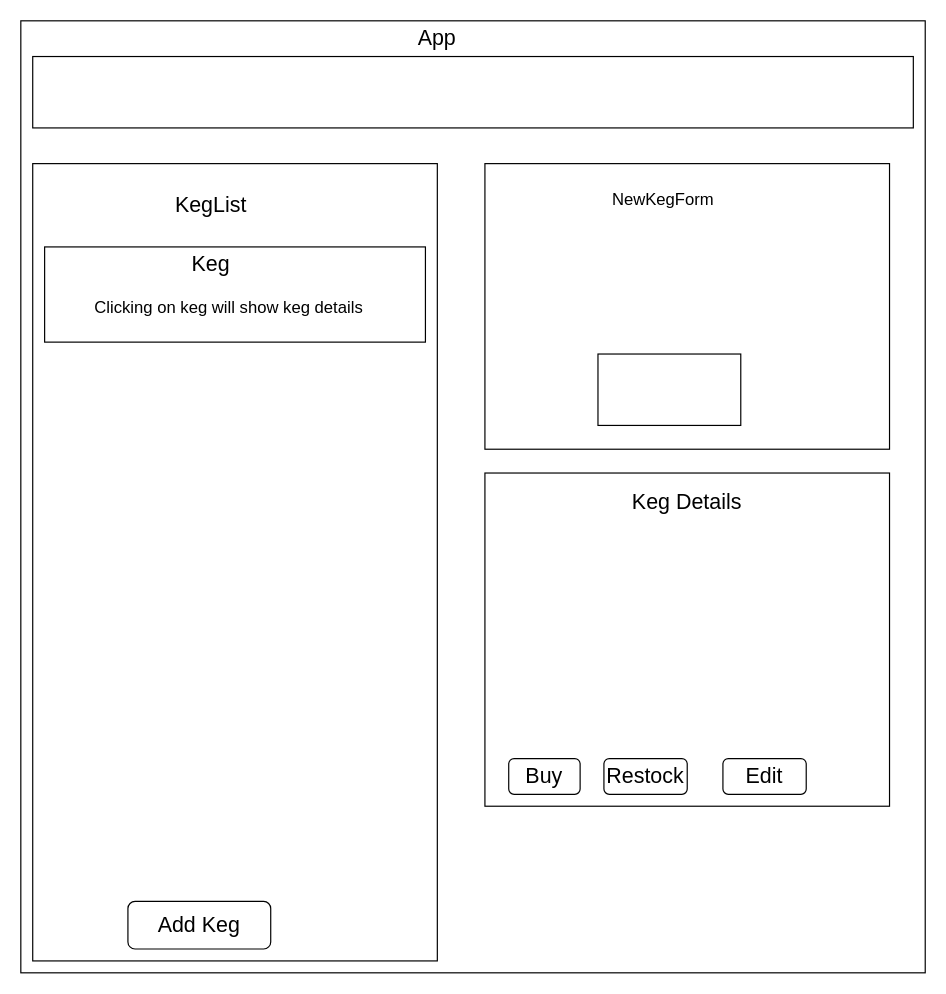
This 946x994 diagram has some shape labels left out. The centre of each missing label's shape, as x and y in pixels:
Header: the point at 472,91
Submit: the point at 669,389
